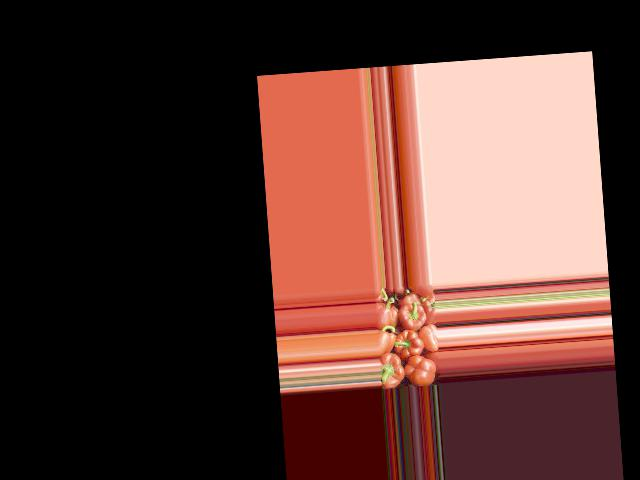bell_pepper: (420, 324, 437, 353)
